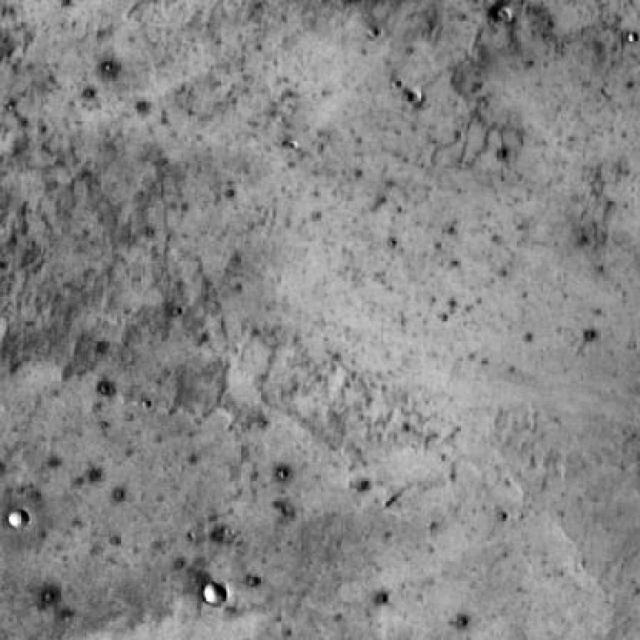crater: (200, 583, 226, 605), (6, 508, 29, 529)
